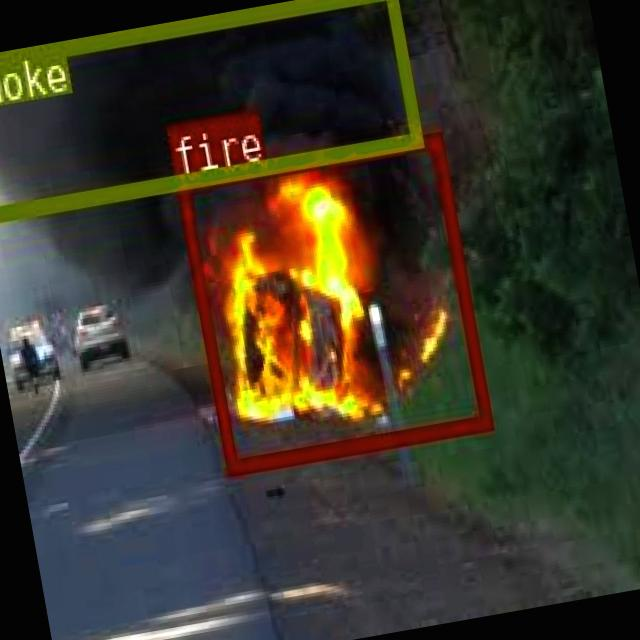fire: (173, 130, 490, 471)
smoke: (0, 0, 420, 219)
